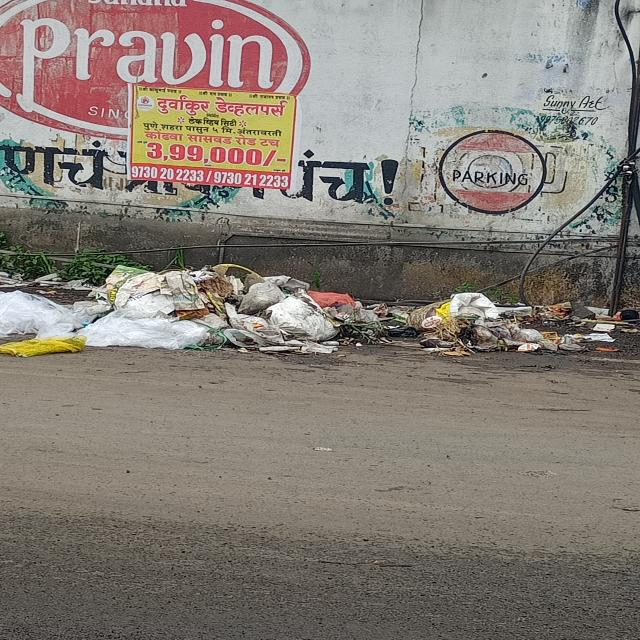garbage: (9, 257, 608, 366)
